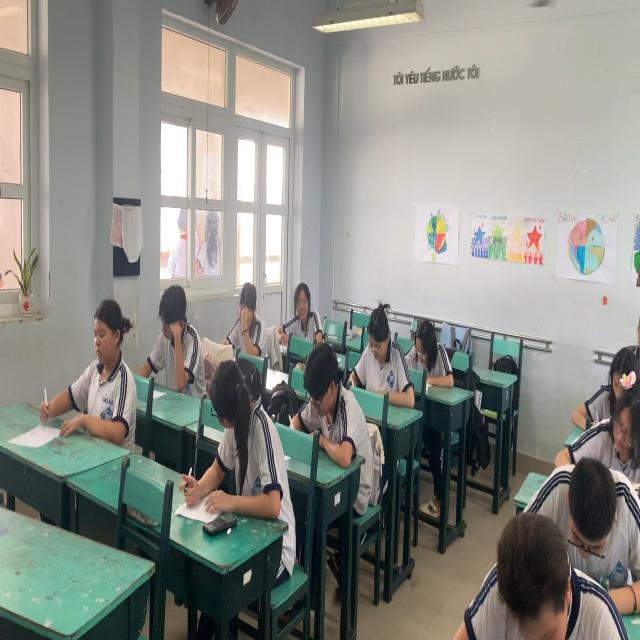cheating: (187, 302, 293, 501), (276, 241, 331, 345)
not_cheating: (456, 425, 640, 640), (540, 376, 640, 575), (285, 275, 386, 456), (43, 270, 134, 412), (343, 261, 422, 405), (146, 231, 212, 381), (406, 284, 465, 400), (218, 257, 278, 363), (586, 310, 640, 423), (603, 367, 640, 479)
